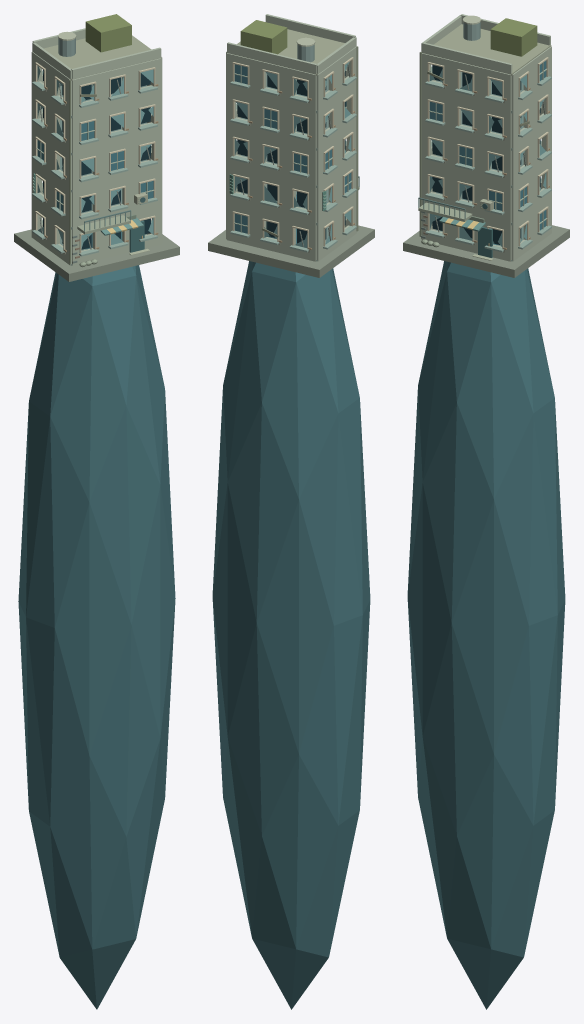
The model's file is house_03.glb.
3 views of the same model, side by side, from view 1: azimuth 30°, elevation 25°; view 2: azimuth 150°, elevation 25°; view 3: azimuth 330°, elevation 25° (orthographic).
Visible parts, largest first — view 1: house_03; view 2: house_03; view 3: house_03.
Boxes of the visible parts, bbox=[...] form: house_03: bbox=[14, 14, 179, 1009]; house_03: bbox=[208, 14, 374, 1009]; house_03: bbox=[403, 14, 569, 1009].
Bounding box in the file's own units: 12.8 × 84.14 × 10.8.
